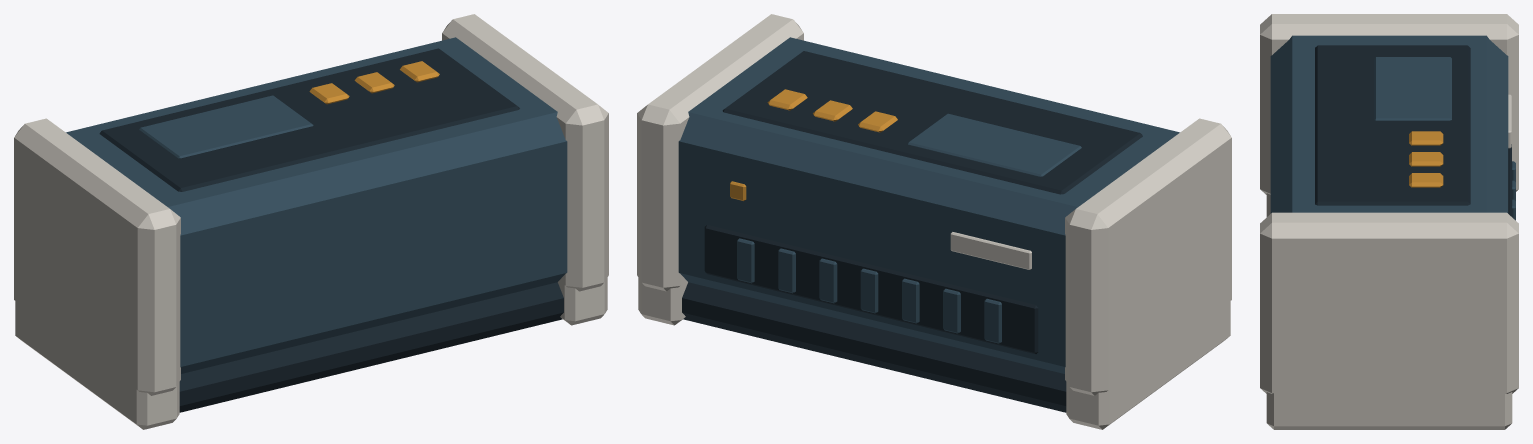
The model's file is cover-console.glb.
3 renders of one model, left to right at view 1: azimuth 30°, elevation 25°; view 2: azimuth 150°, elevation 25°; view 3: azimuth 270°, elevation 25°, orthographic. The views are drawn at different scales.
Parts seen in each view (by area): view 1: cover-console; view 2: cover-console; view 3: cover-console.
Part boxes in pixels (x1=…): cover-console: x1=14, y1=14, x2=608, y2=429; cover-console: x1=637, y1=14, x2=1231, y2=429; cover-console: x1=1260, y1=14, x2=1518, y2=429.
Bounding box in the file's own units: 2.4 × 1.05 × 1.2.
